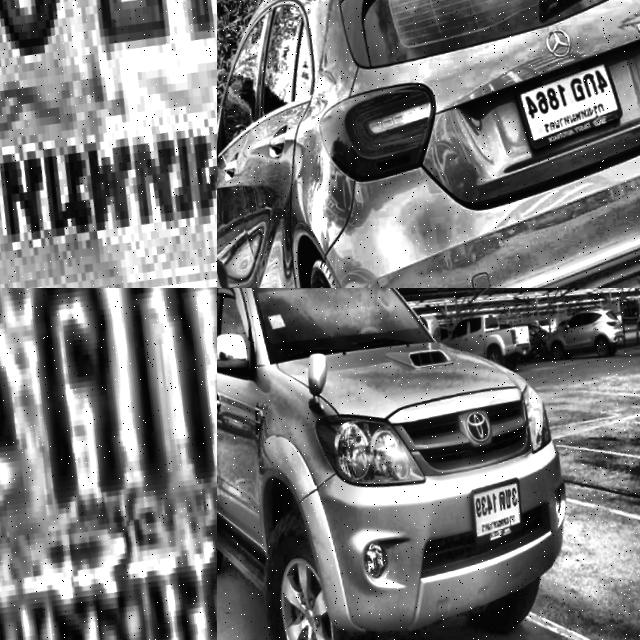license-plate: (0, 288, 217, 640), (0, 0, 217, 288), (503, 45, 635, 158), (467, 469, 532, 540)
